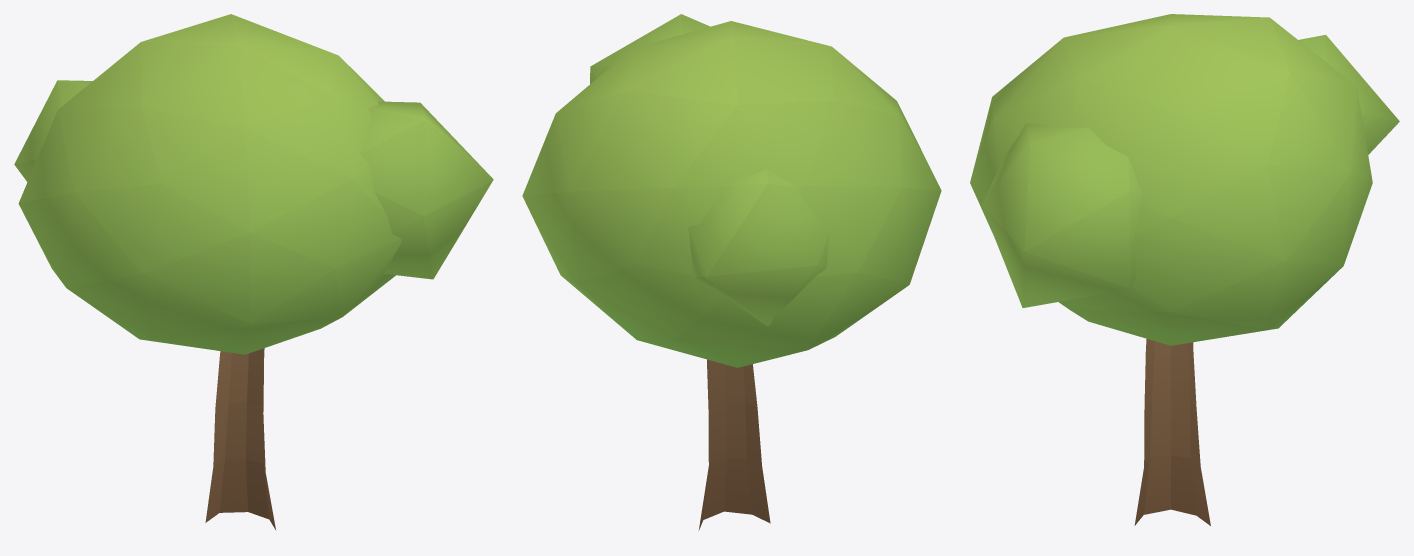
The model's file is tree_2_round.glb.
3 views of the same model, side by side, from view 1: azimuth 30°, elevation 25°; view 2: azimuth 150°, elevation 25°; view 3: azimuth 270°, elevation 25° (orthographic). The views are drawn at different scales.
Parts seen in each view (by area): view 1: tree_round_2; view 2: tree_round_2; view 3: tree_round_2.
Boxes of the visible parts, left/top/right/bottom form: tree_round_2: left=14, top=14, right=493, bottom=529; tree_round_2: left=522, top=14, right=941, bottom=530; tree_round_2: left=970, top=14, right=1399, bottom=525.
Bounding box in the file's own units: 2.89 × 3.72 × 2.89.
